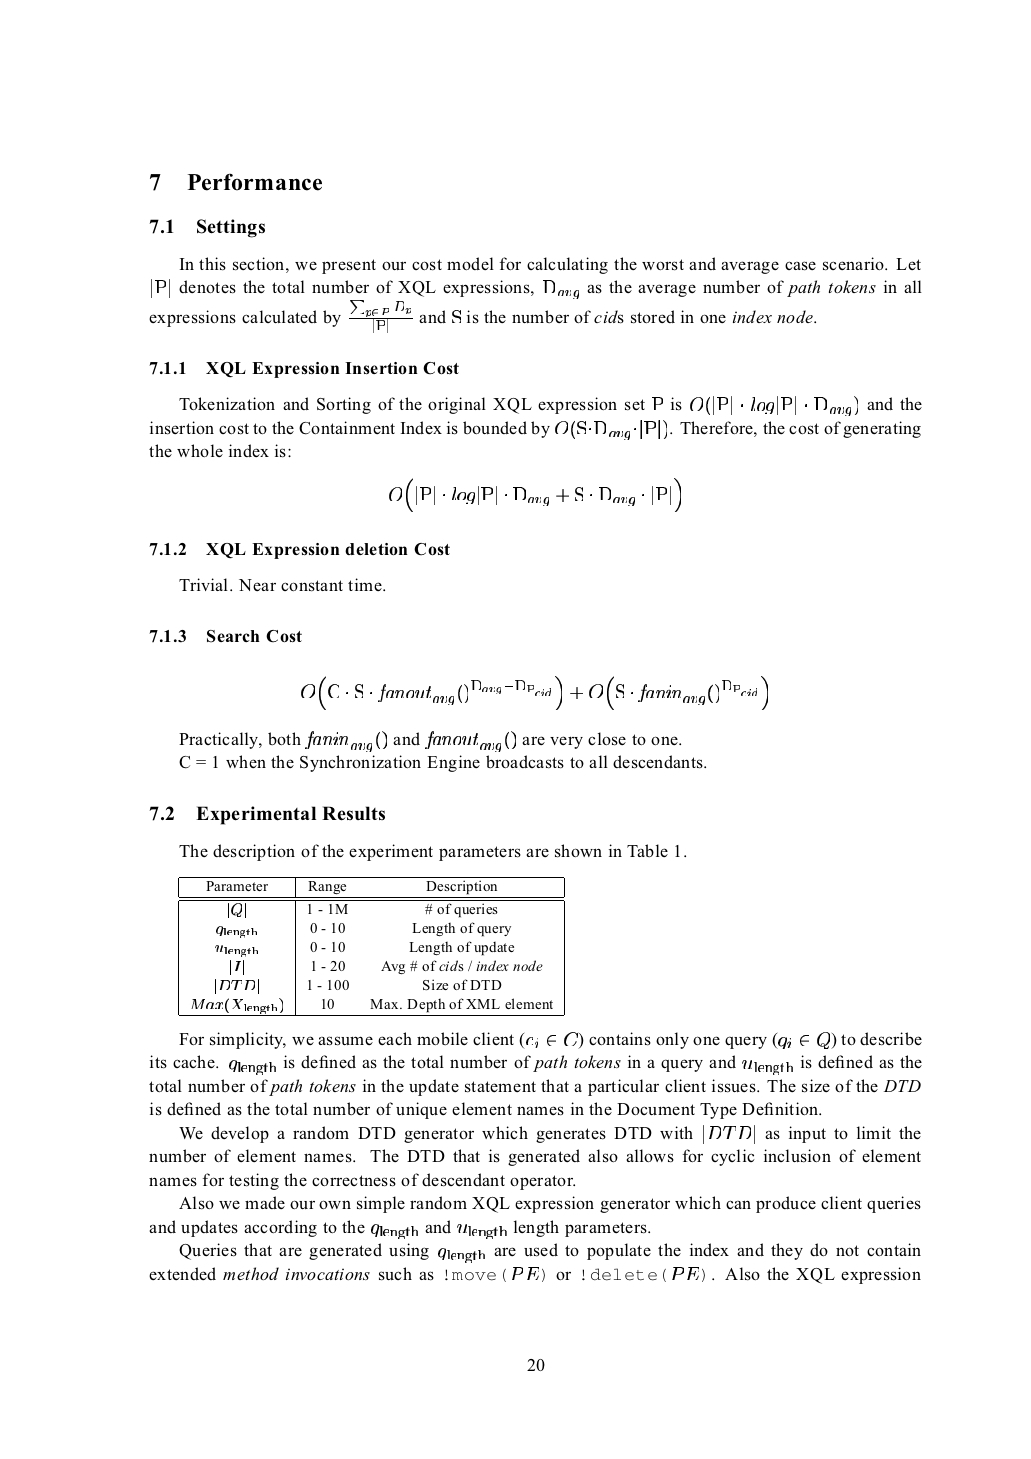Table: (179, 875, 563, 1016)
formula: (301, 675, 767, 711), (389, 477, 680, 512)
